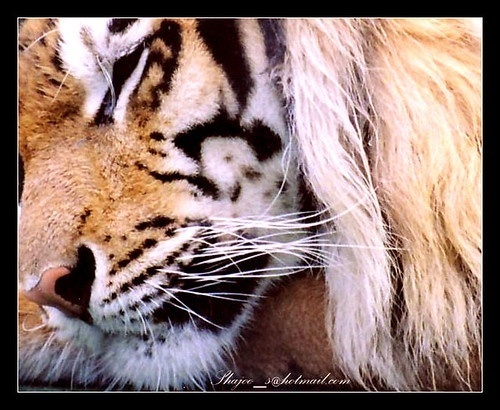tigre: (18, 19, 481, 390)
